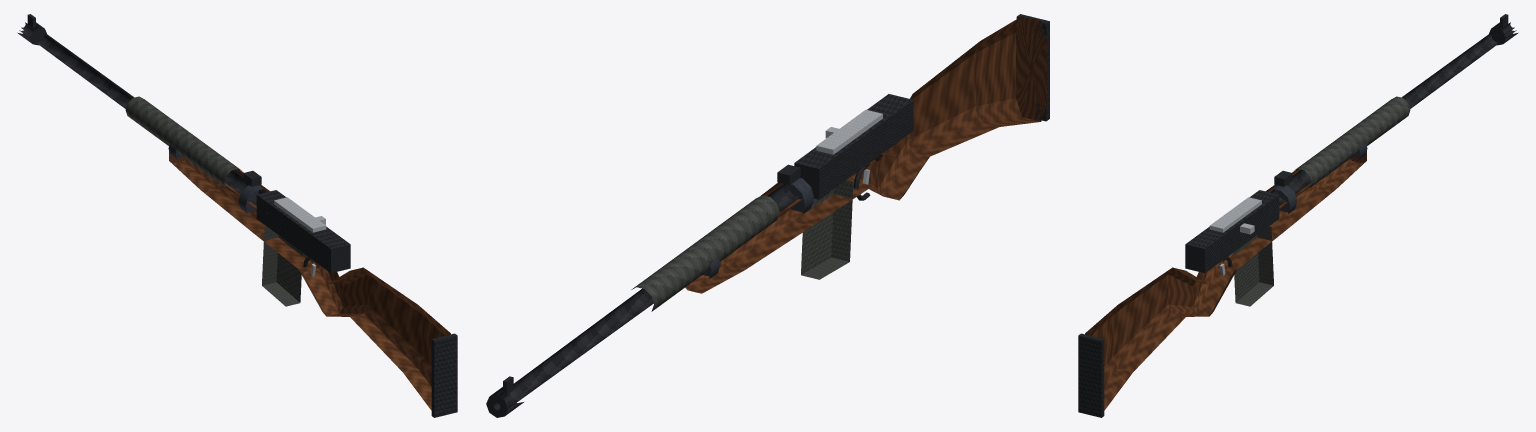
Rendered from svt40.glb.
3 renders of one model, left to right at view 1: azimuth 30°, elevation 25°; view 2: azimuth 150°, elevation 25°; view 3: azimuth 330°, elevation 25°, orthographic. The views are drawn at different scales.
Visible parts, largest first — view 1: WeaponMesh; view 2: WeaponMesh; view 3: WeaponMesh.
Part boxes in pixels (x1=…): WeaponMesh: x1=17, y1=14, x2=457, y2=417; WeaponMesh: x1=486, y1=14, x2=1049, y2=417; WeaponMesh: x1=1078, y1=14, x2=1518, y2=417.
Size of the model in its own units: 0.055 by 0.1566 by 1.2.
5 materials, 5 textured.
